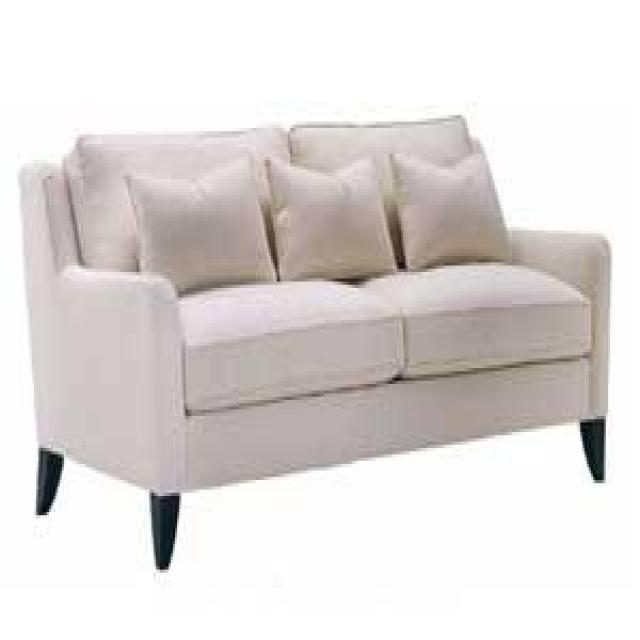sofa: (17, 111, 613, 574)
